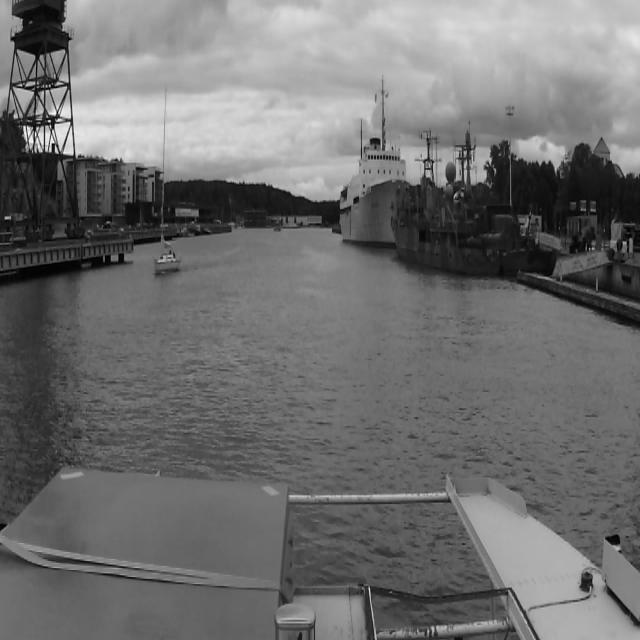ship: (390, 126, 492, 276), (339, 72, 389, 248), (155, 82, 183, 274)
